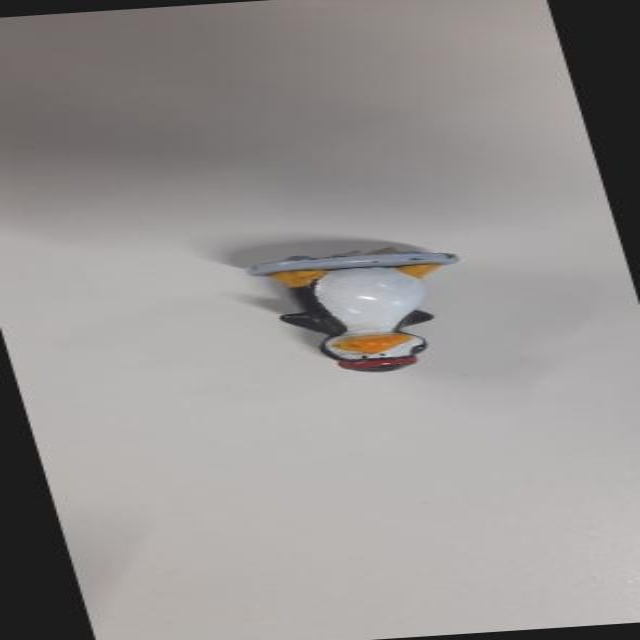Penguin: (214, 227, 526, 419)
